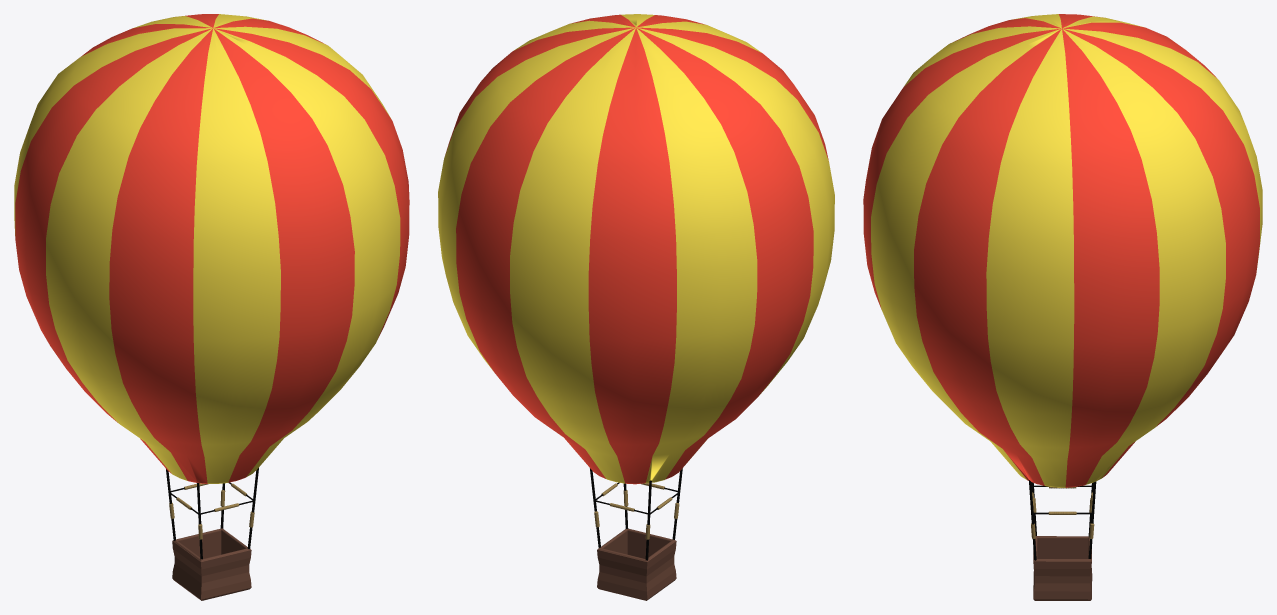
The model's file is baloon.glb.
3 renders of one model, left to right at view 1: azimuth 30°, elevation 25°; view 2: azimuth 150°, elevation 25°; view 3: azimuth 270°, elevation 25°, orthographic.
Visible parts, largest first — view 1: Balloon, Sphere.002, Sphere.001; view 2: Balloon, Sphere.002, Sphere.001; view 3: Balloon, Sphere.002, Sphere.001.
Part boxes in pixels (x1,y1,x2,y2): Balloon: (14, 14, 409, 483); Sphere.002: (172, 528, 251, 600); Sphere.001: (166, 468, 258, 559); Balloon: (438, 14, 834, 484); Sphere.002: (597, 528, 676, 600); Sphere.001: (590, 468, 682, 560); Balloon: (863, 14, 1262, 487); Sphere.002: (1033, 536, 1092, 600); Sphere.001: (1029, 480, 1096, 560).
Size of the model in its own units: 2.32 by 3.61 by 2.32.
